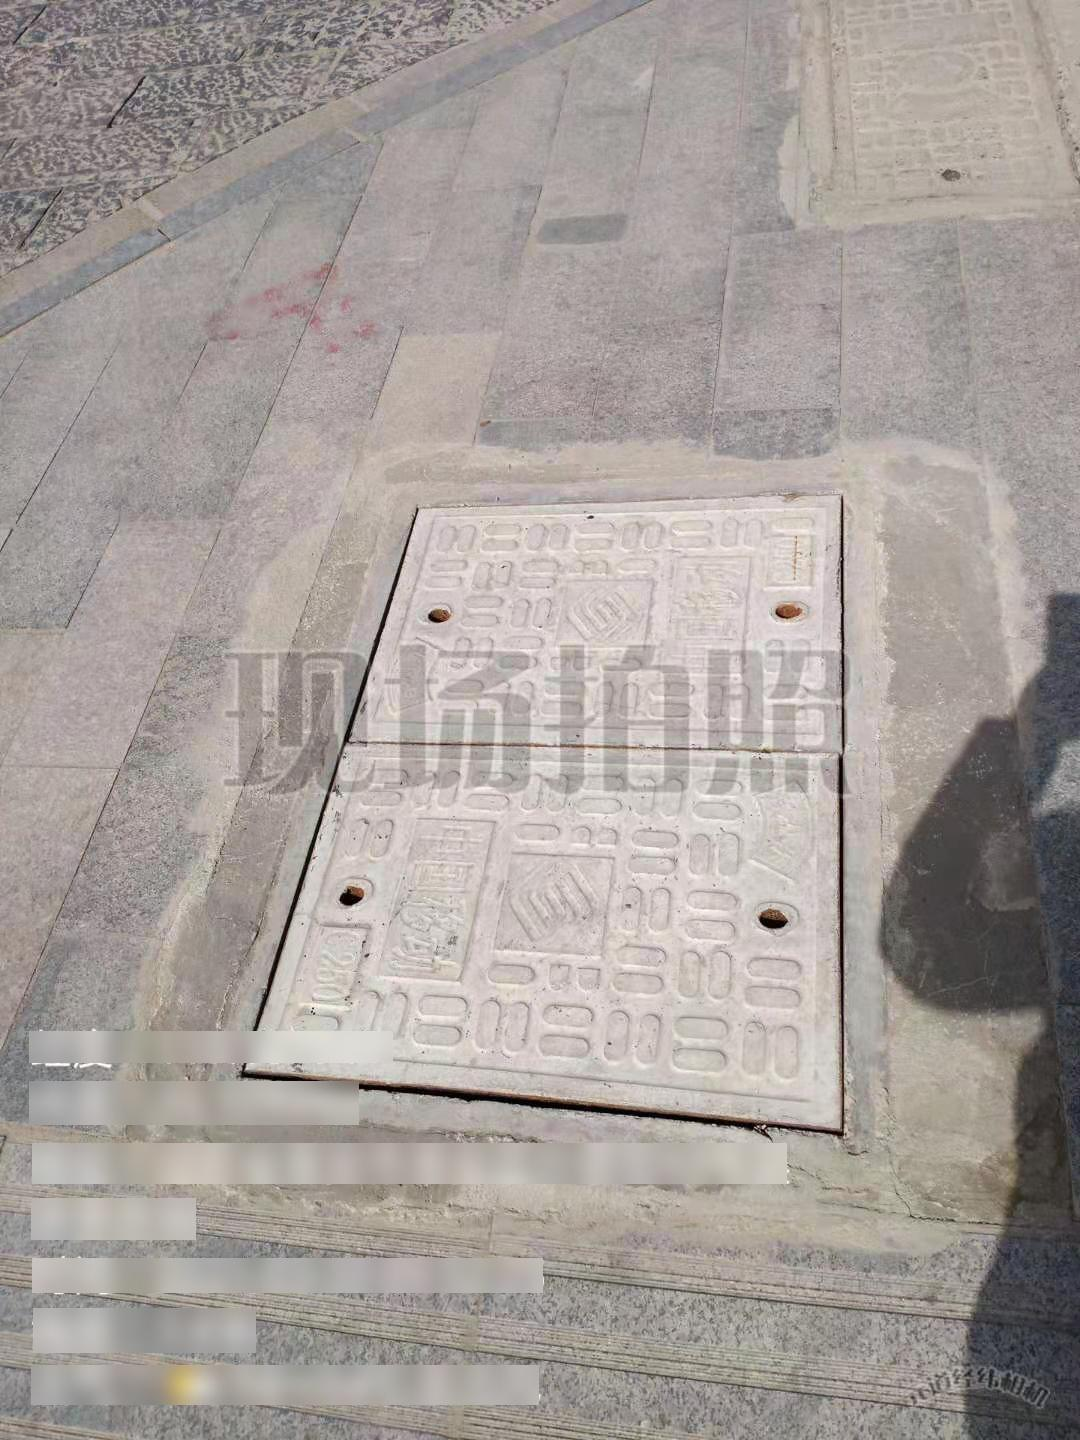wellcover: (269, 481, 980, 1152), (781, 0, 1080, 276)
